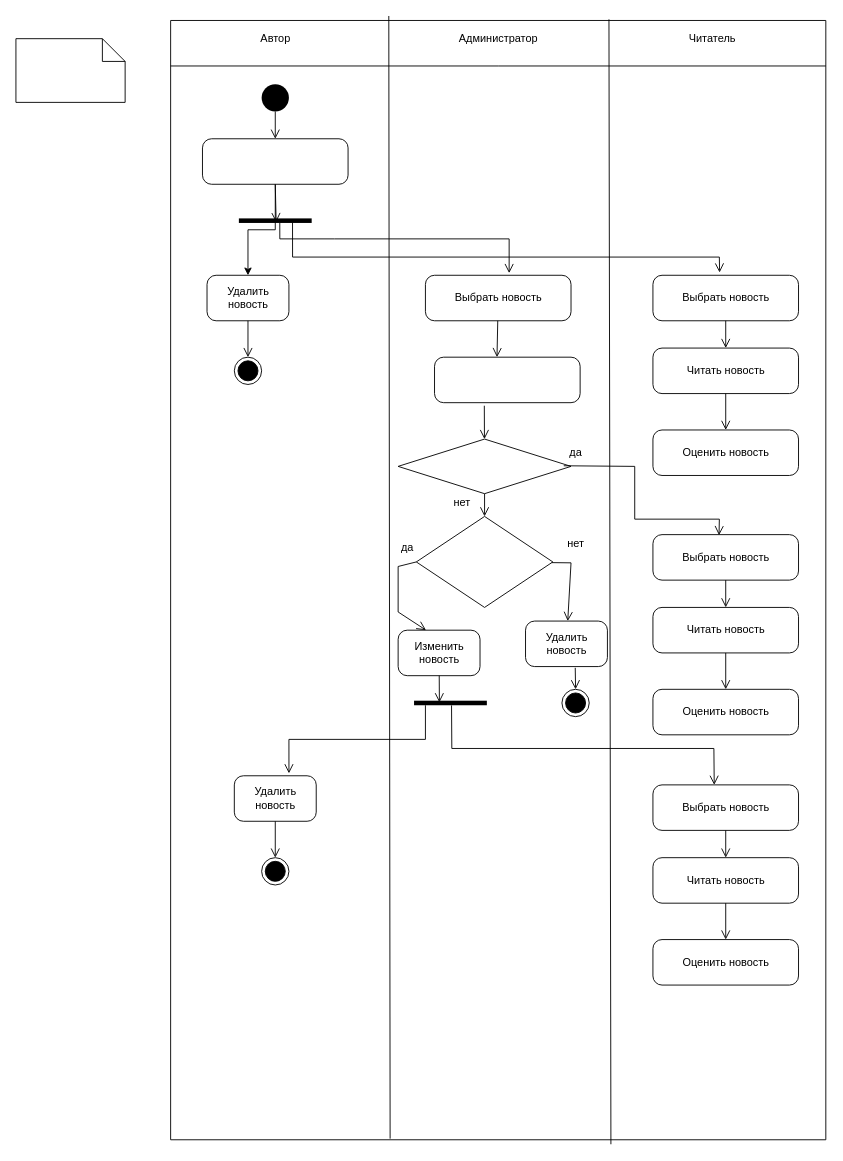
Image size: 843x1161. Some labels were removed from this diagram. The box of each missing label's shape, as (x1, y1, x2, y2) in pixels:
Диаграмма активностей: (15, 38, 125, 102)
Новость можно принять с изменениями?: (415, 516, 553, 607)
Новость отвечает требованиям: (397, 438, 571, 494)
Проверить новость: (434, 356, 580, 403)
Создать новость: (202, 138, 348, 184)
